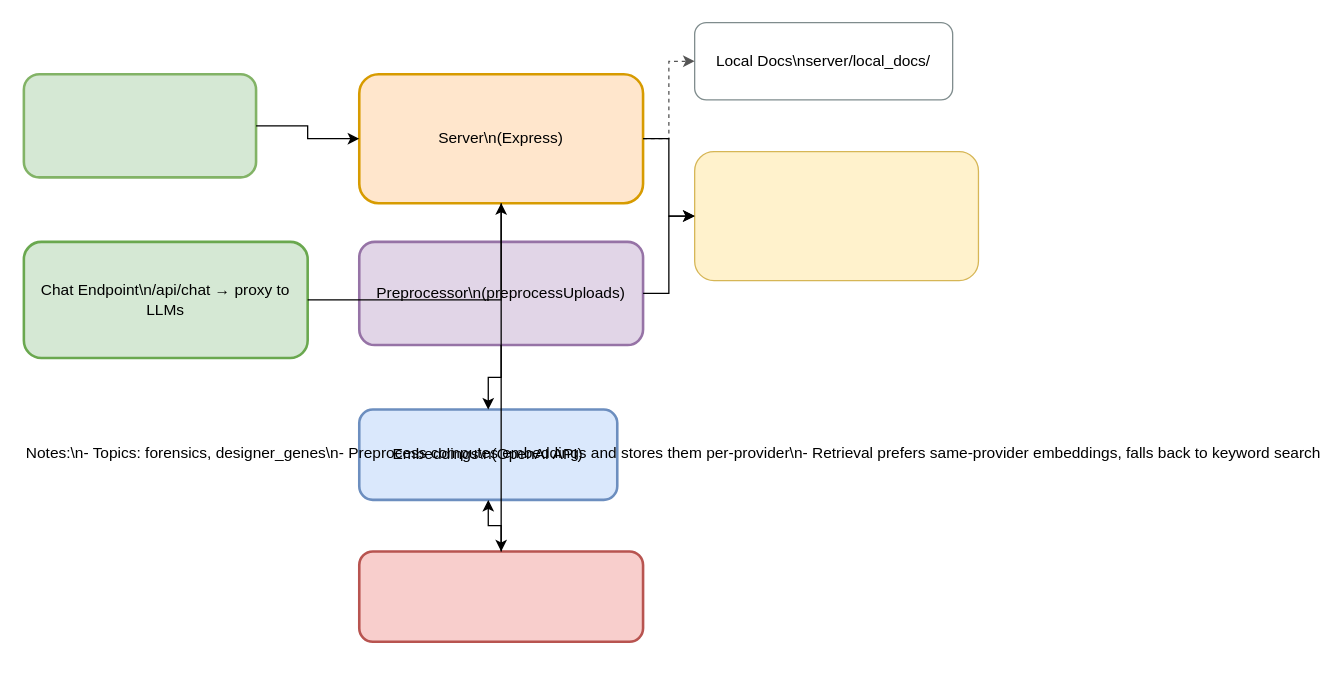
The diagram is 1343 pixels wide and 690 high, and some of its shapes have lost their labels. The centre of each missing label's shape, as x and y in pixels:
"Client\n(Vite + React)" belongs at point (139, 125).
"Docs Store\ndocs.json (id, text, embedding, topic, provider)" belongs at point (835, 215).
"Retrieval\nretrieveContext()" belongs at point (500, 596).
